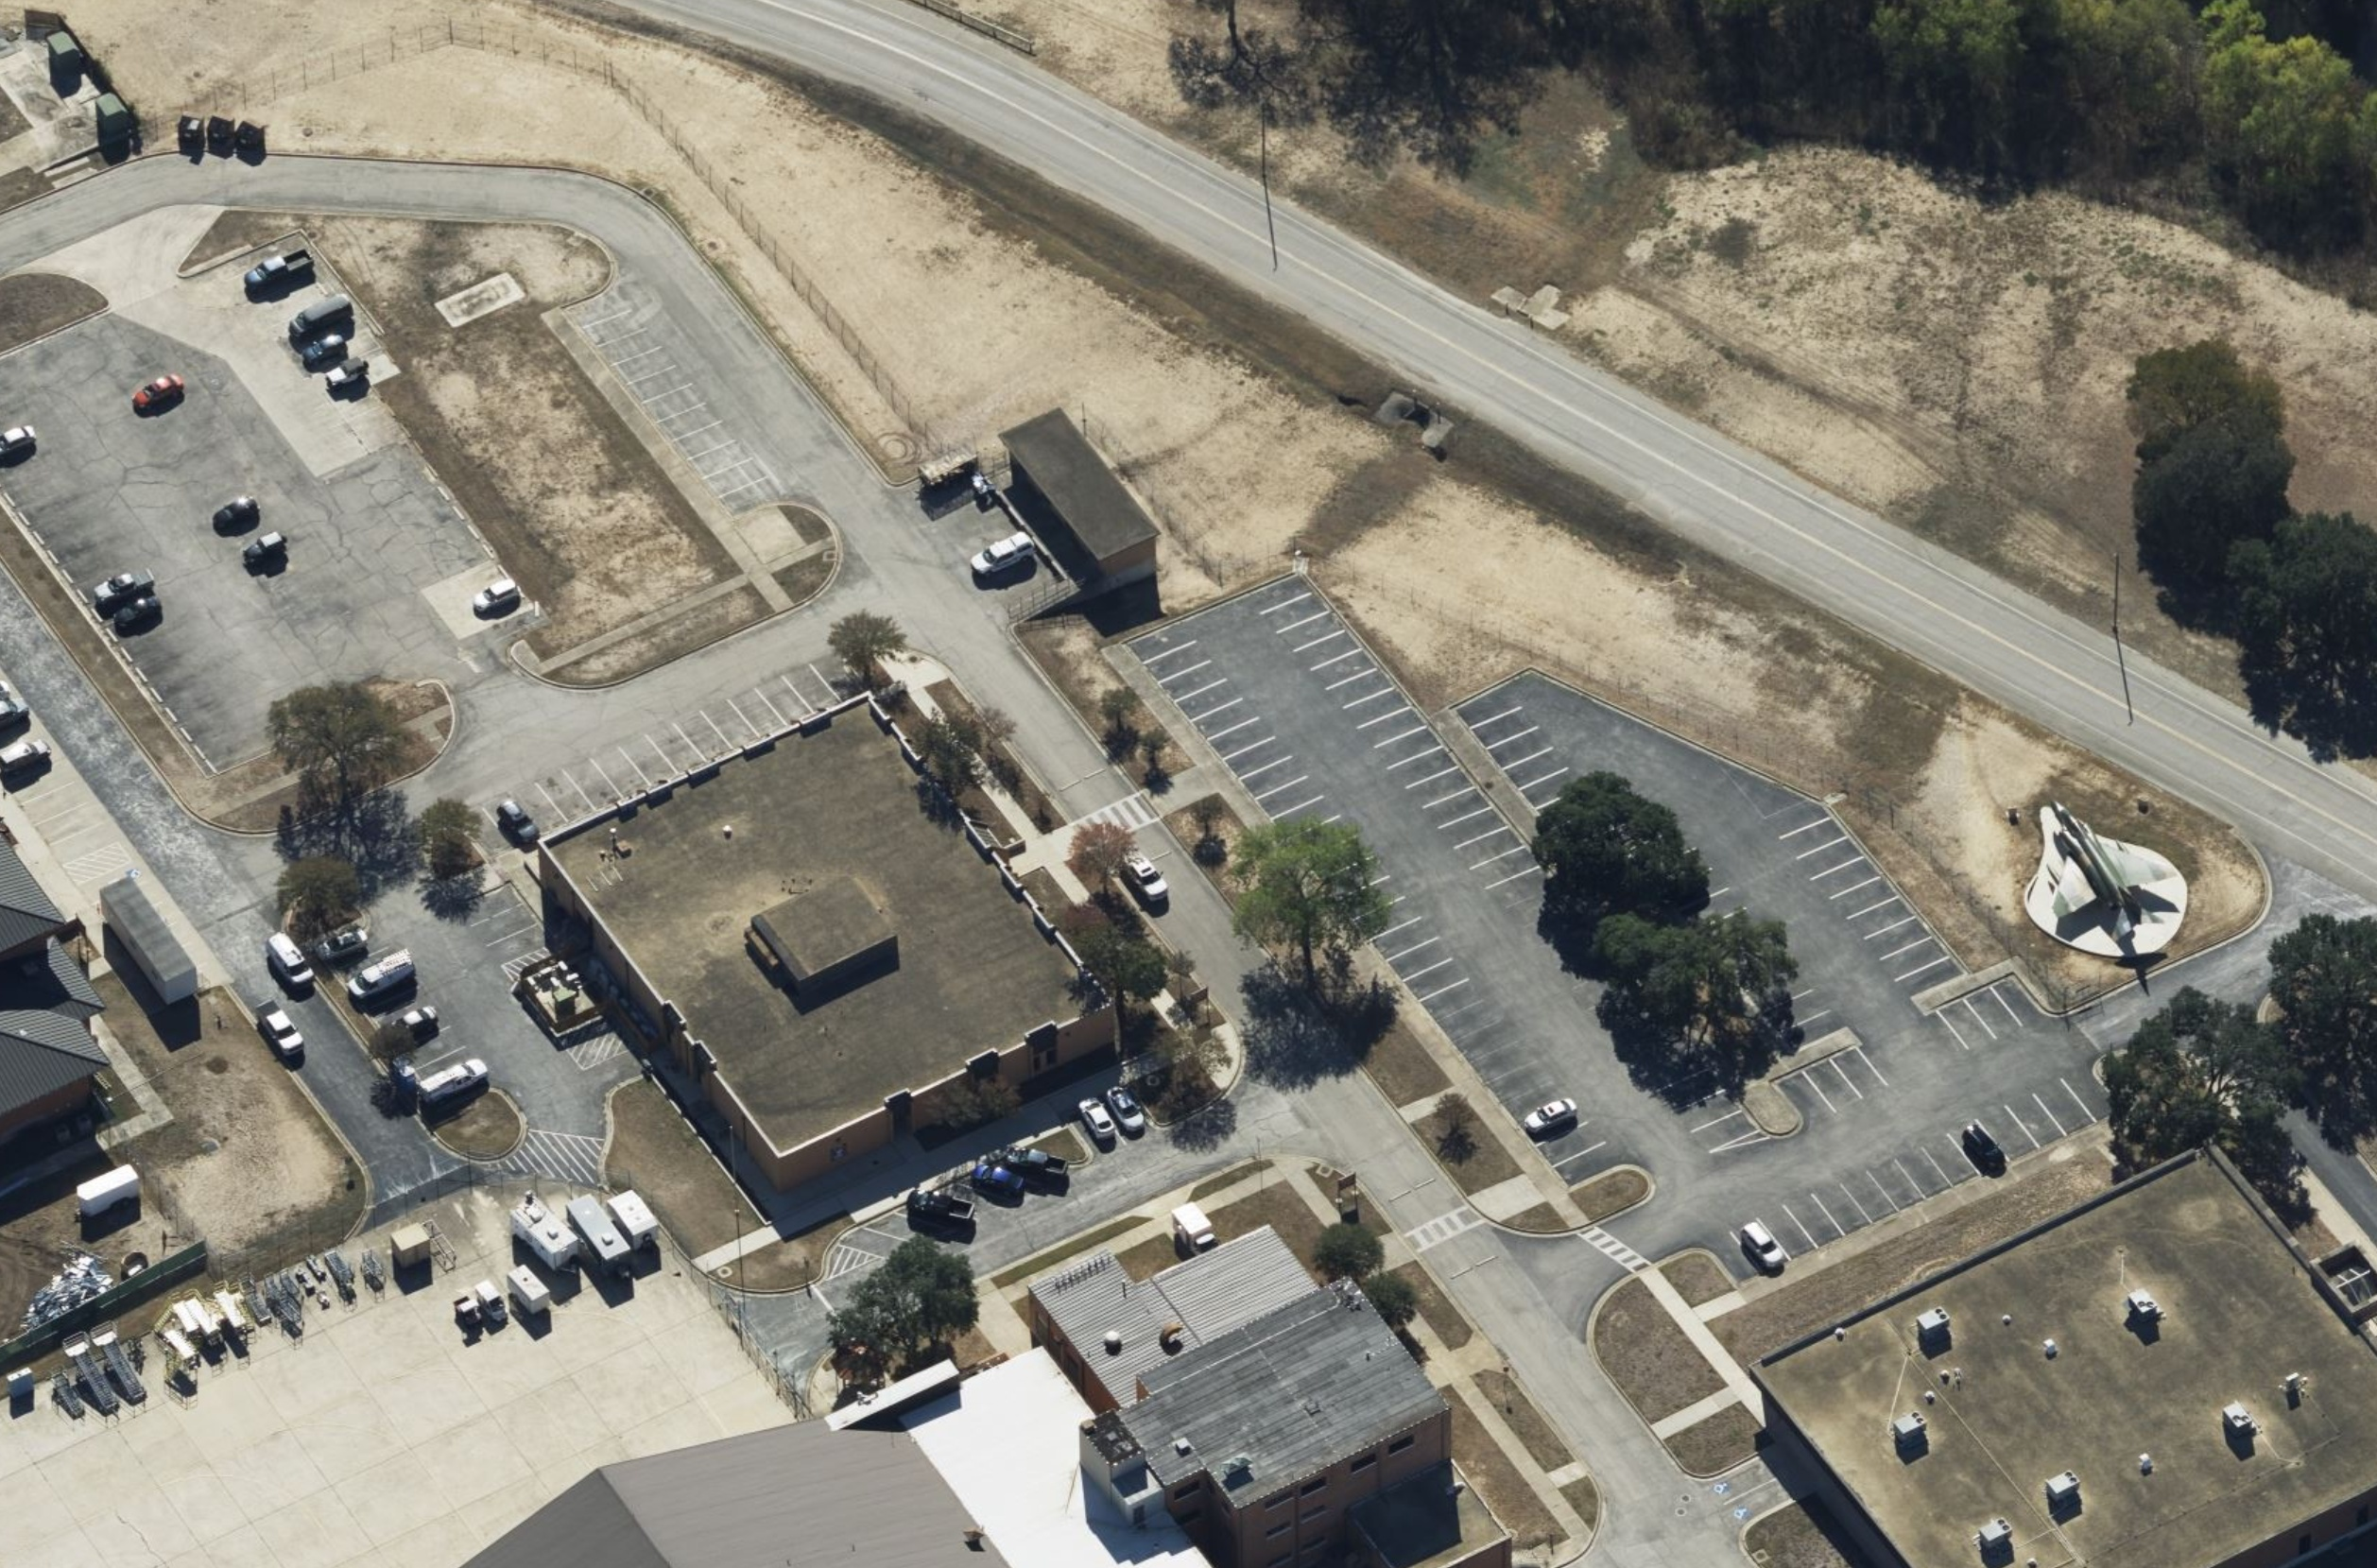F4: (2045, 798, 2179, 943)
